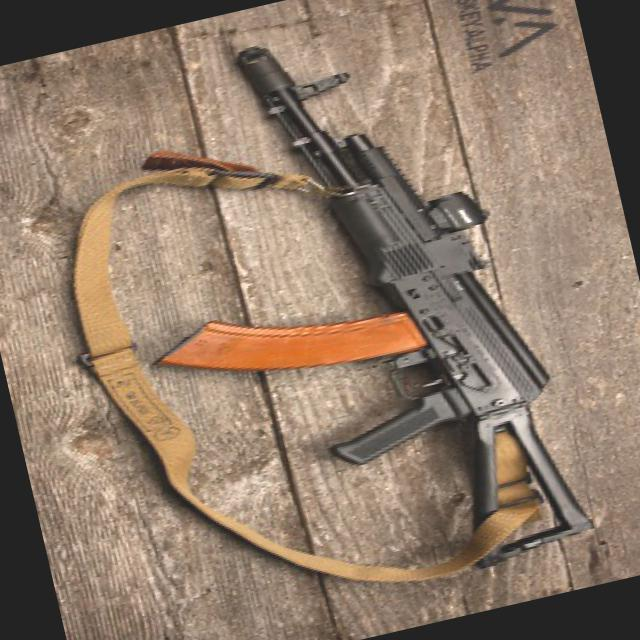long weapon: (219, 0, 604, 599)
